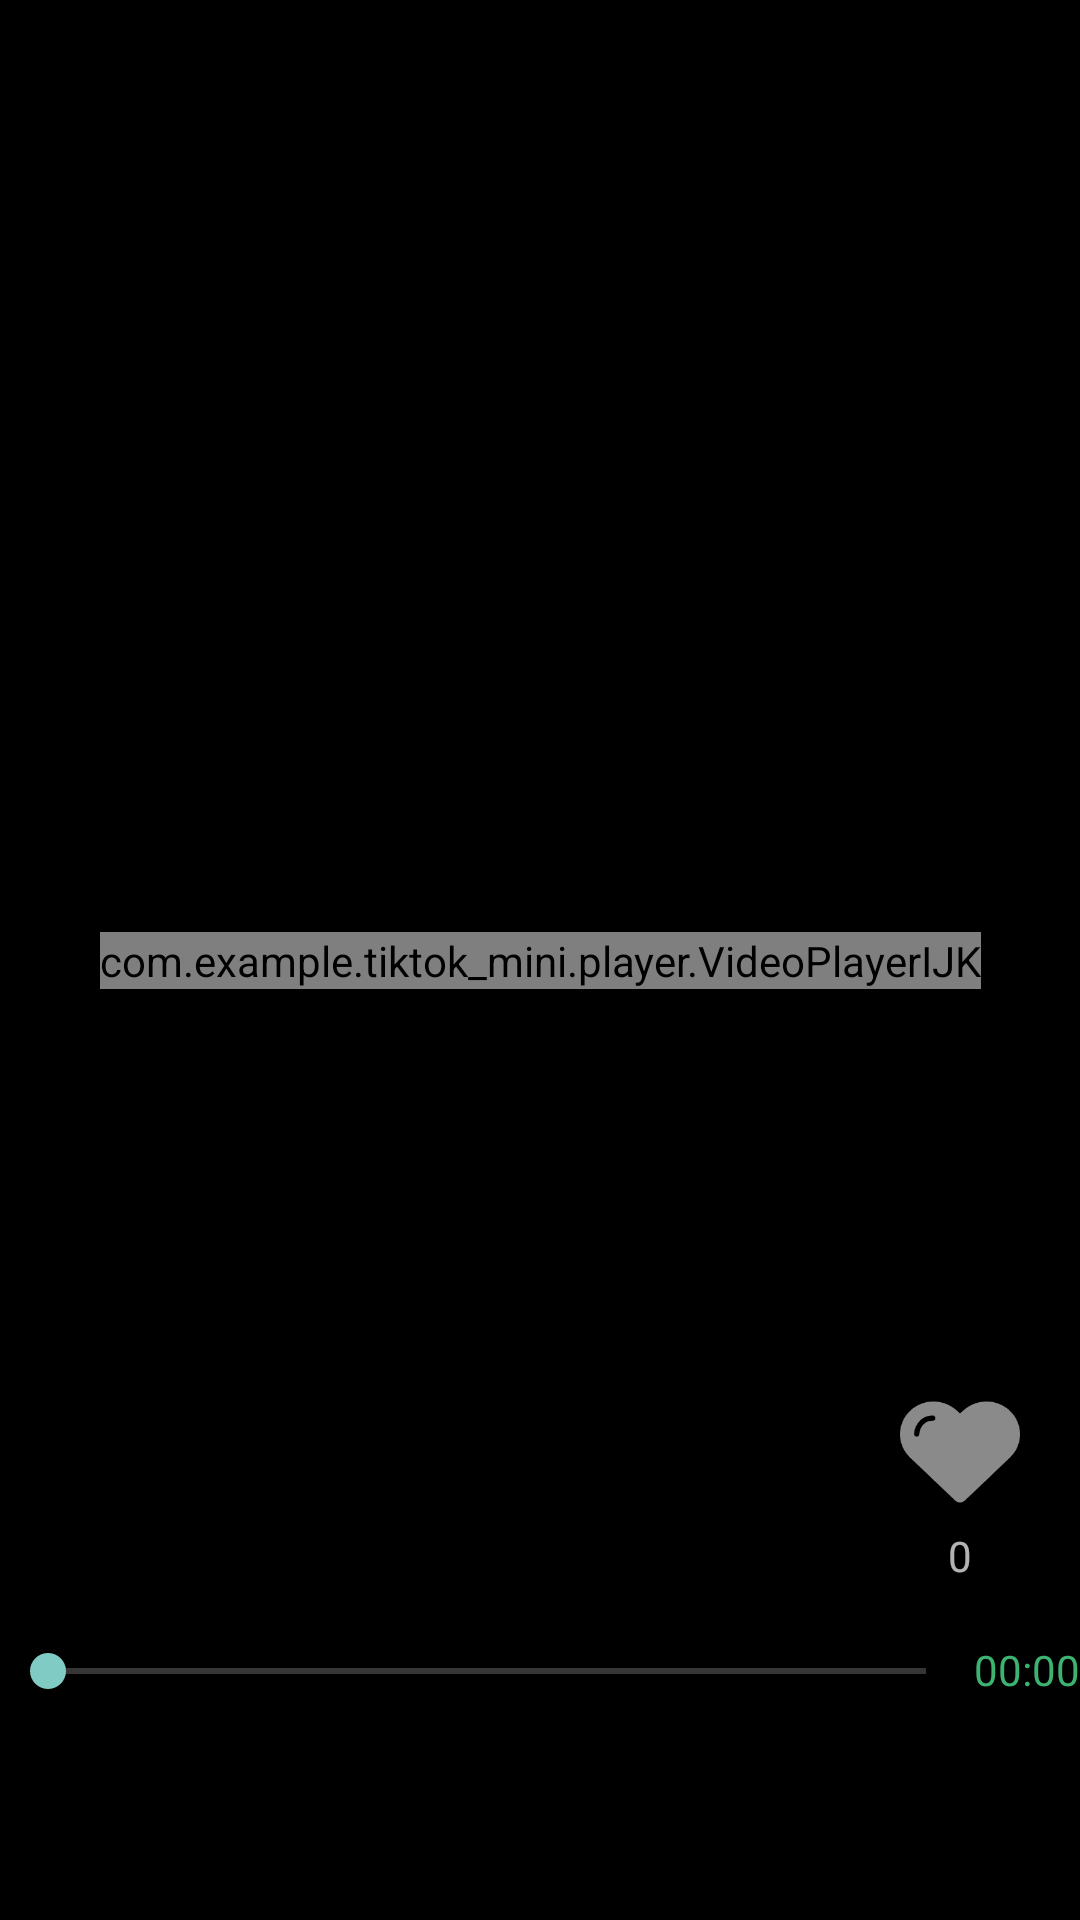

Locate icon controls on the screen. Image size 1080x1920, boxes as Rect(x1, y1, x2, y2).
unlike: Rect(900, 1401, 1020, 1503)
